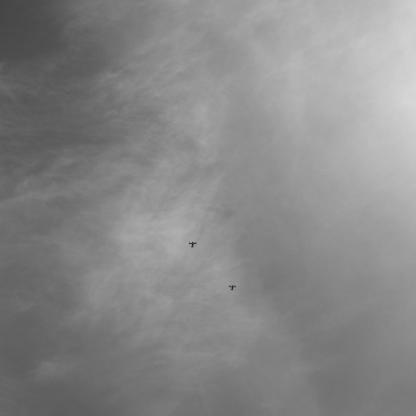V22: (228, 286, 238, 292), (189, 243, 198, 249)
